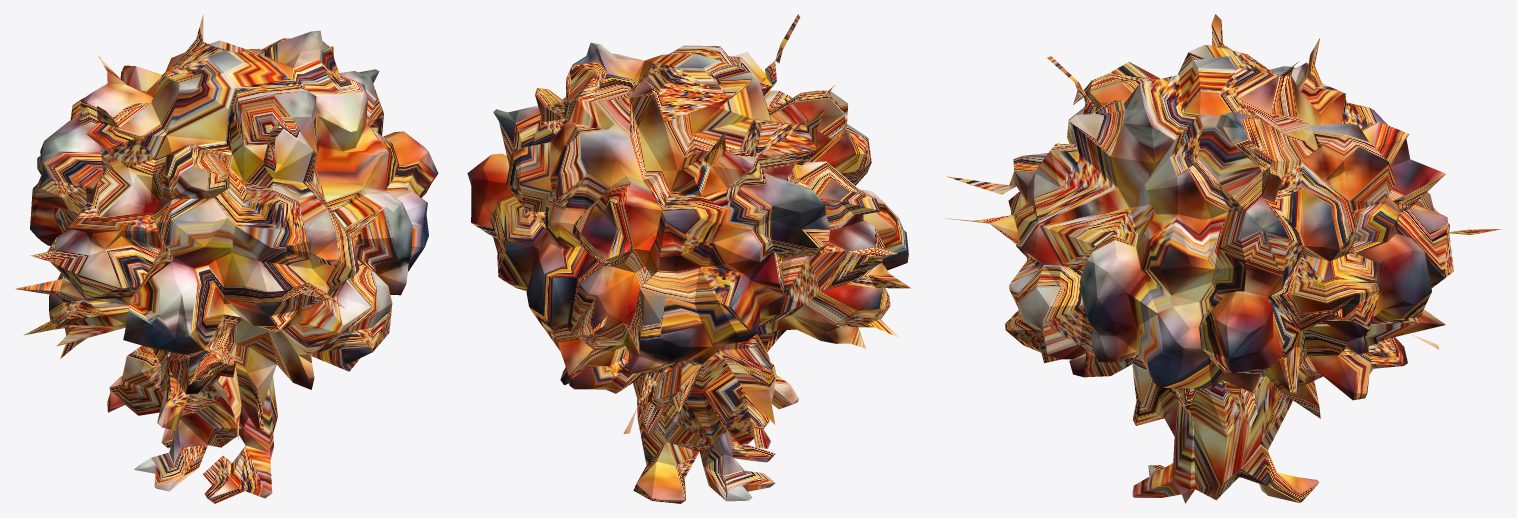
3 views of the same model, side by side, from view 1: azimuth 30°, elevation 25°; view 2: azimuth 150°, elevation 25°; view 3: azimuth 270°, elevation 25° (orthographic). The views are drawn at different scales.
Parts seen in each view (by area): view 1: Object_4; view 2: Object_4; view 3: Object_4.
Boxes of the visible parts, x1,y1,x2,y2 form: Object_4: [15, 14, 438, 503]; Object_4: [467, 14, 910, 503]; Object_4: [945, 14, 1501, 503].
Size of the model in its own units: 0.7476 by 0.6988 by 0.7989.
Materials: 1 (1 with a texture image).
